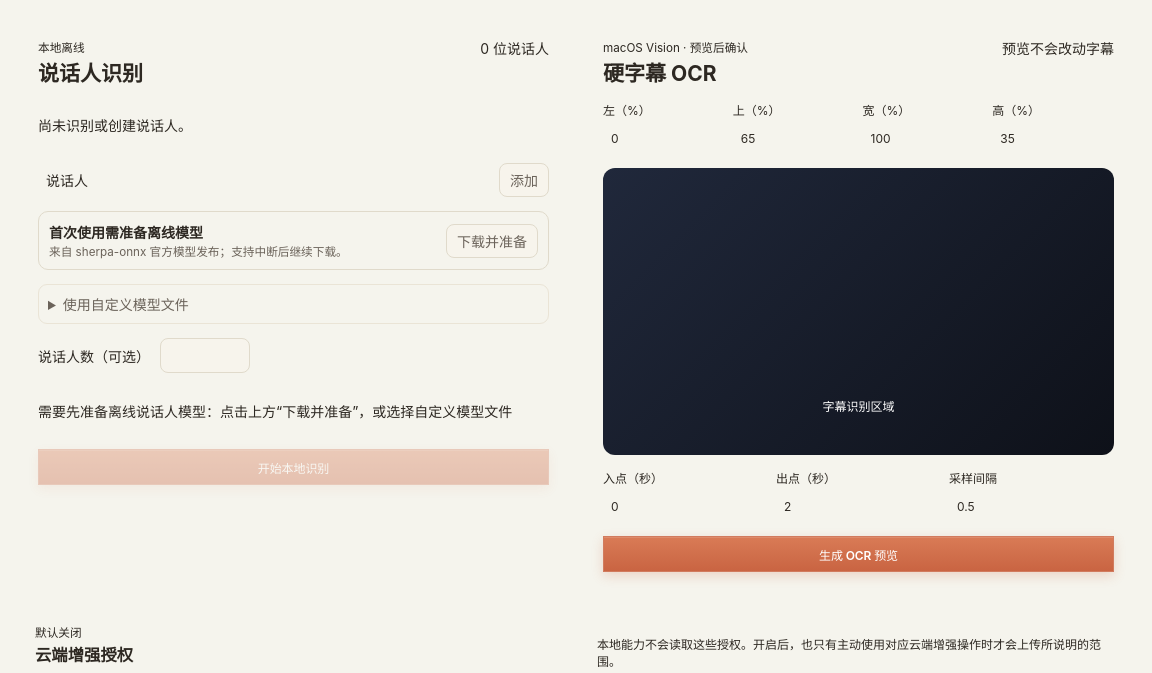
it: SmartToolsPanel task polling › keeps polling OCR until the completed preview is rendered
What coordinates should you click on to do the following:
click the button "生成 OCR 预览"
I would click on:
 (858, 554)
Its box is [603,536,1114,572].
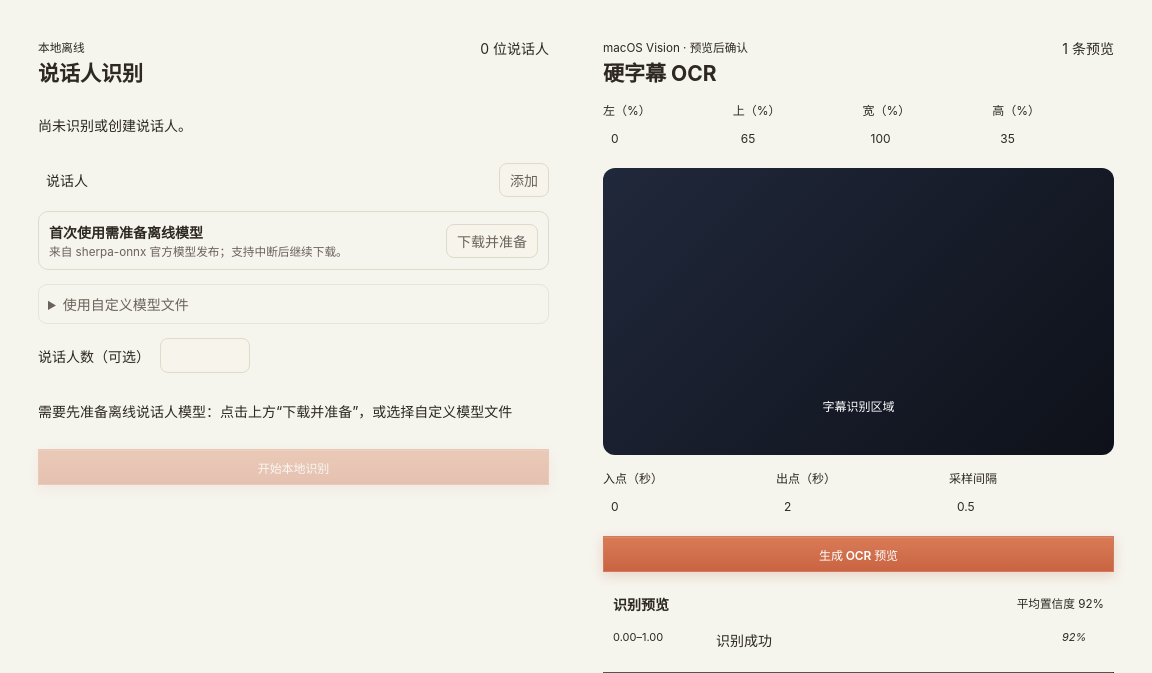
Expected: the text "1 条预览" is shown, [1062,38,1114,58]
Expected: the text "识别成功" is shown, [716,632,772,649]
